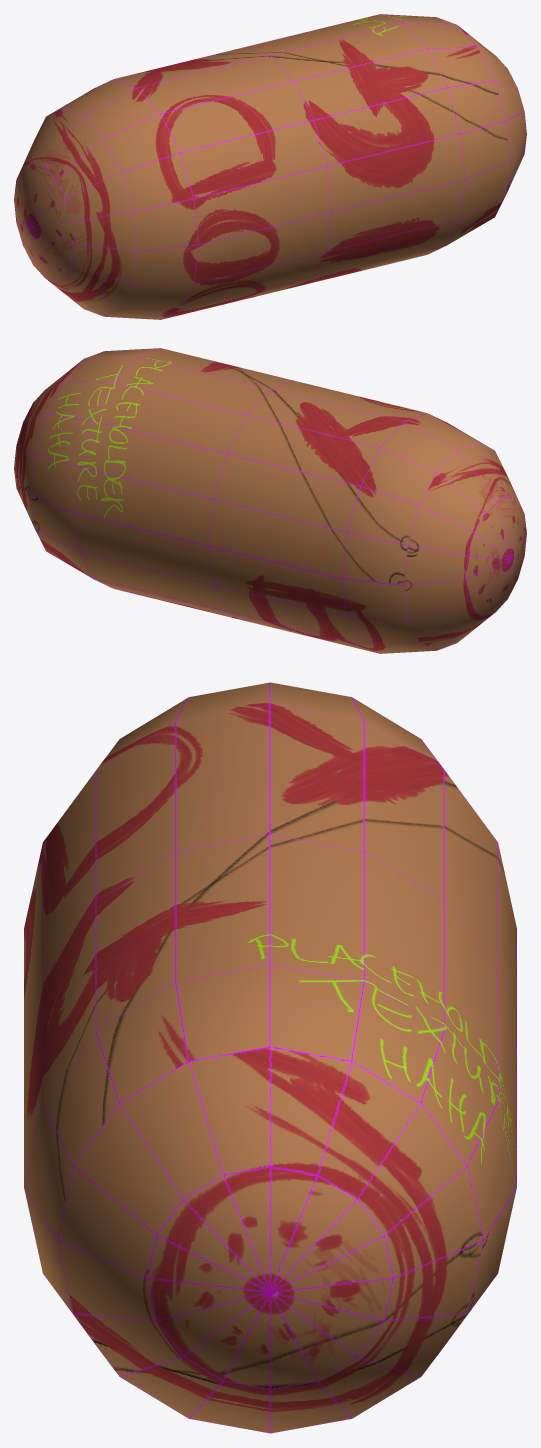
File: Sausage.gltf
The picture shows the model from 3 angles, top to bottom: view 1: azimuth 30°, elevation 25°; view 2: azimuth 150°, elevation 25°; view 3: azimuth 270°, elevation 25°; orthographic projection. The views are drawn at different scales.
Parts seen in each view (by area): view 1: sausage4; view 2: sausage4; view 3: sausage4.
Boxes of the visible parts, box(x1,y1,x2,y2) form: sausage4: box(14, 14, 526, 319); sausage4: box(14, 348, 526, 653); sausage4: box(24, 682, 516, 1433).
Size of the model in its own units: 0.1444 by 0.0642 by 0.0642.
1 material, 1 textured.
